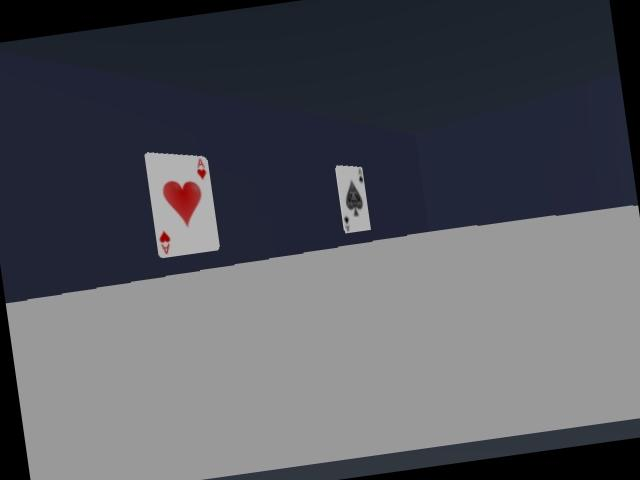heart: (144, 153, 219, 257)
spade: (335, 165, 370, 232)
